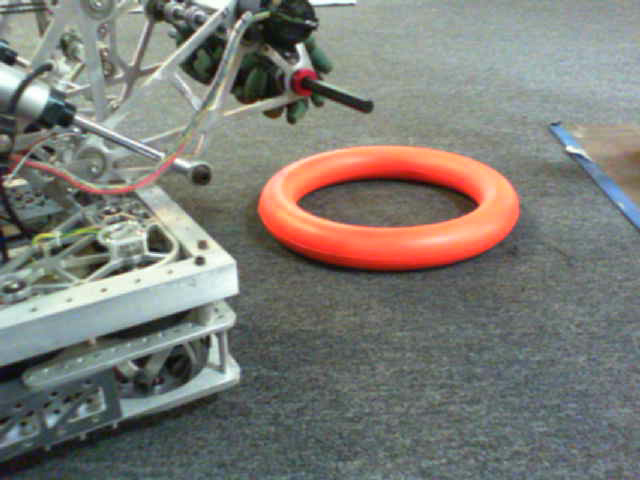Note: (256, 151, 526, 262)
Robot: (10, 5, 325, 443)
